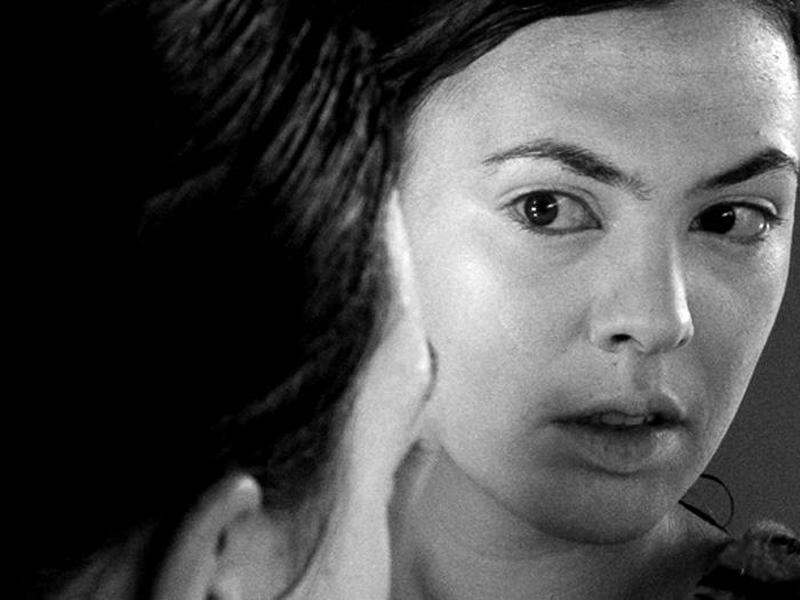person: (7, 1, 445, 600), (374, 1, 789, 600)
